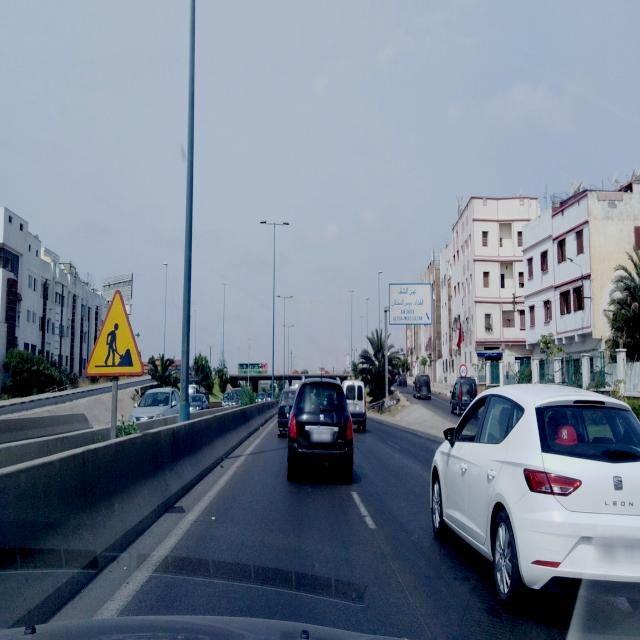car: (429, 380, 640, 612), (286, 369, 354, 482), (127, 386, 181, 435), (342, 378, 367, 432), (450, 374, 478, 415), (276, 386, 296, 436), (413, 372, 432, 399), (189, 392, 209, 412), (398, 372, 408, 387), (256, 392, 265, 402)
